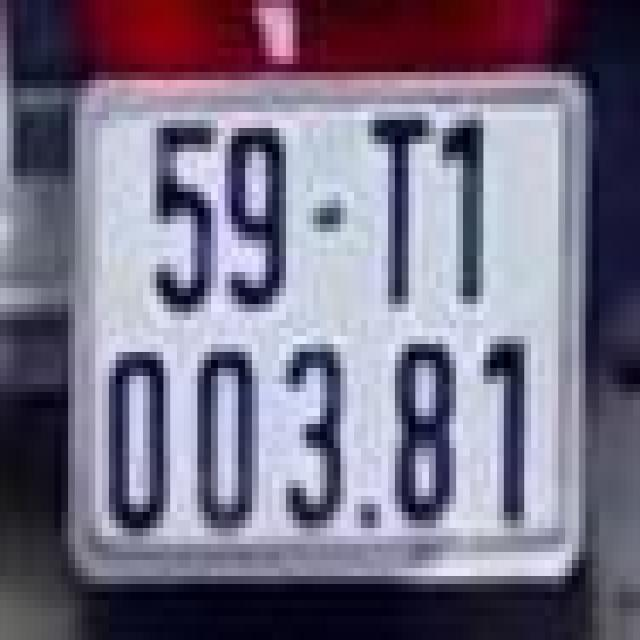0: (187, 336, 262, 544), (99, 344, 180, 536)
1: (473, 328, 541, 536), (432, 108, 494, 308)
3: (272, 332, 348, 532)
5: (136, 112, 218, 336)
8: (388, 328, 463, 536)
9: (222, 104, 290, 320)
T: (358, 108, 432, 316)
